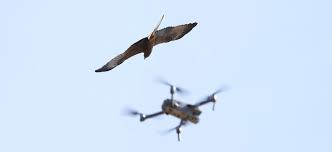Bird: (93, 11, 197, 73)
Drone: (127, 76, 230, 142)
